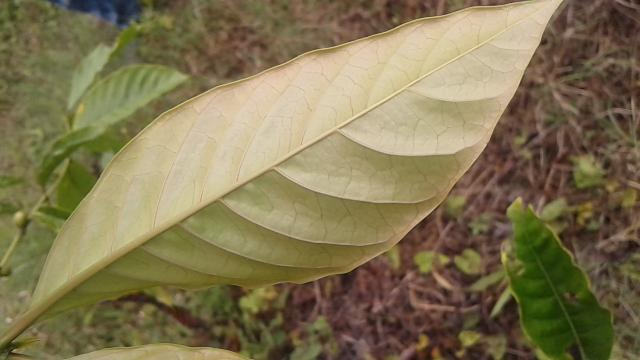healthy: (25, 0, 566, 330)
